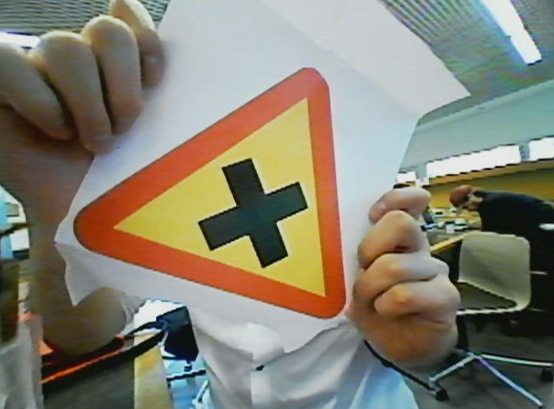junction: (99, 89, 365, 326)
